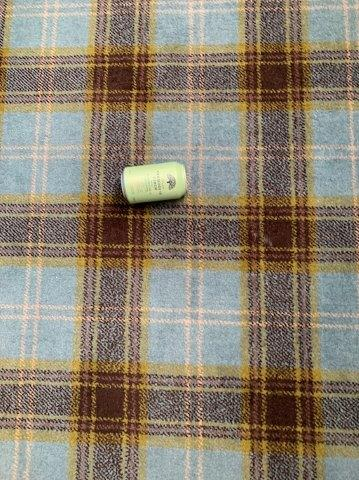kaleng: (121, 163, 187, 203)
